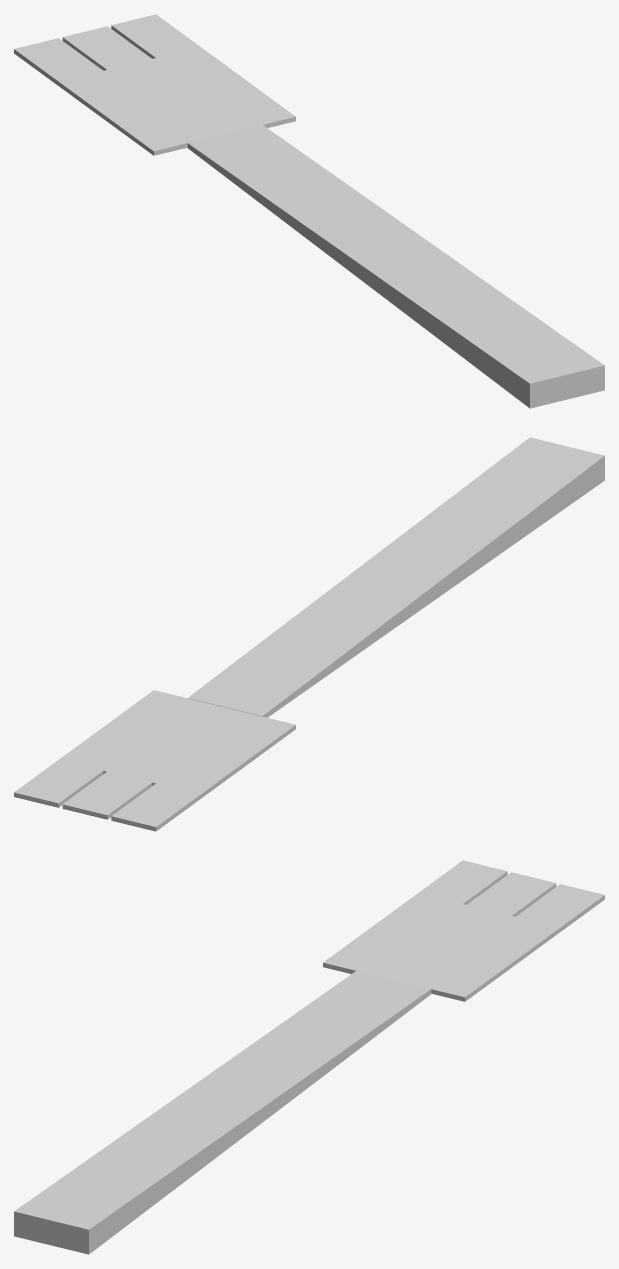
File: Itr_Obj_Fork_01.FBX
3 views of the same model, one above another, from view 1: azimuth 30°, elevation 25°; view 2: azimuth 150°, elevation 25°; view 3: azimuth 330°, elevation 25° (orthographic).
Parts seen in each view (by area): view 1: Itr_Obj_Fork_01; view 2: Itr_Obj_Fork_01; view 3: Itr_Obj_Fork_01.
Part boxes in pixels (bbox=[...]): Itr_Obj_Fork_01: bbox=[14, 14, 604, 408]; Itr_Obj_Fork_01: bbox=[14, 437, 604, 831]; Itr_Obj_Fork_01: bbox=[14, 860, 604, 1254].
Size of the model in its own units: 0.8283 by 0.1387 by 4.87.
